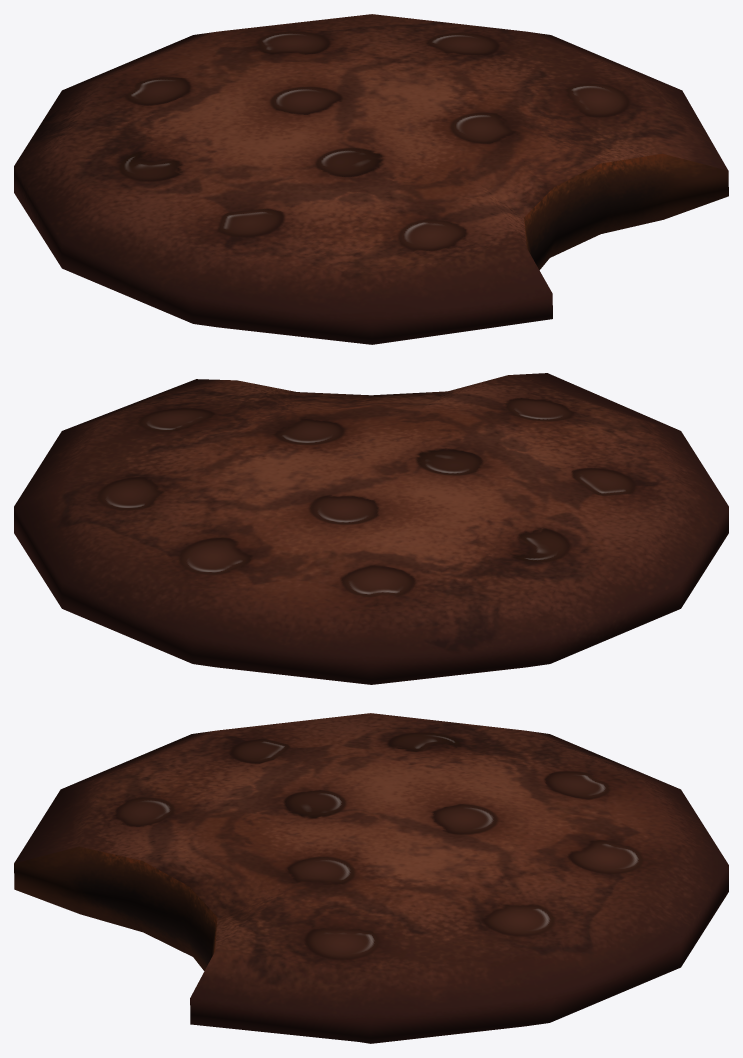
File: Cookie_02_Bitten.fbx
3 views of the same model, one above another, from view 1: azimuth 30°, elevation 25°; view 2: azimuth 150°, elevation 25°; view 3: azimuth 270°, elevation 25° (orthographic).
Visible parts, largest first — view 1: Cookie_02_Bitten; view 2: Cookie_02_Bitten; view 3: Cookie_02_Bitten.
Boxes of the visible parts, x1,y1,x2,y2 form: Cookie_02_Bitten: (14,14,728,344); Cookie_02_Bitten: (14,373,728,684); Cookie_02_Bitten: (14,713,728,1043).
Size of the model in its own units: 63.45 by 8.89 by 63.33.
